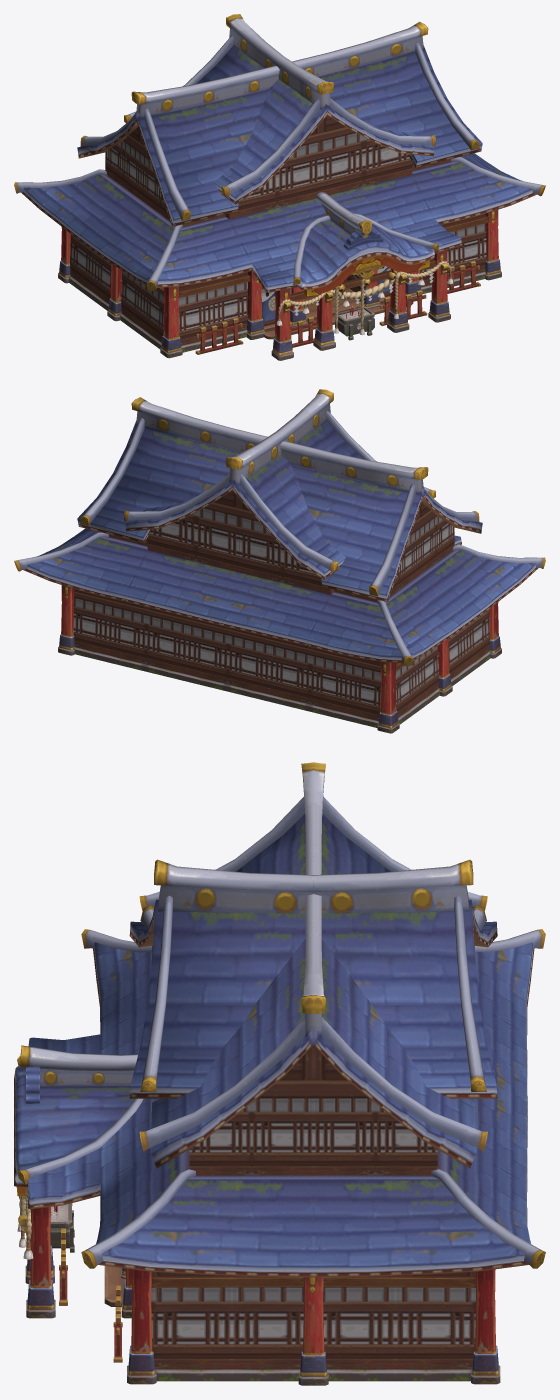
Rendered from shrine_jz001_06.FBX.
3 renders of one model, top to bottom at view 1: azimuth 30°, elevation 25°; view 2: azimuth 150°, elevation 25°; view 3: azimuth 270°, elevation 25°, orthographic. The views are drawn at different scales.
Visible parts, largest first — view 1: shrine_jz001_06; view 2: shrine_jz001_06; view 3: shrine_jz001_06.
Boxes of the visible parts, x1=… form: shrine_jz001_06: x1=14, y1=14, x2=545, y2=360; shrine_jz001_06: x1=14, y1=389, x2=545, y2=733; shrine_jz001_06: x1=14, y1=762, x2=545, y2=1385.
Bounding box in the file's own units: 1523 × 837 × 1048.
Materials: 3 (3 with a texture image).
